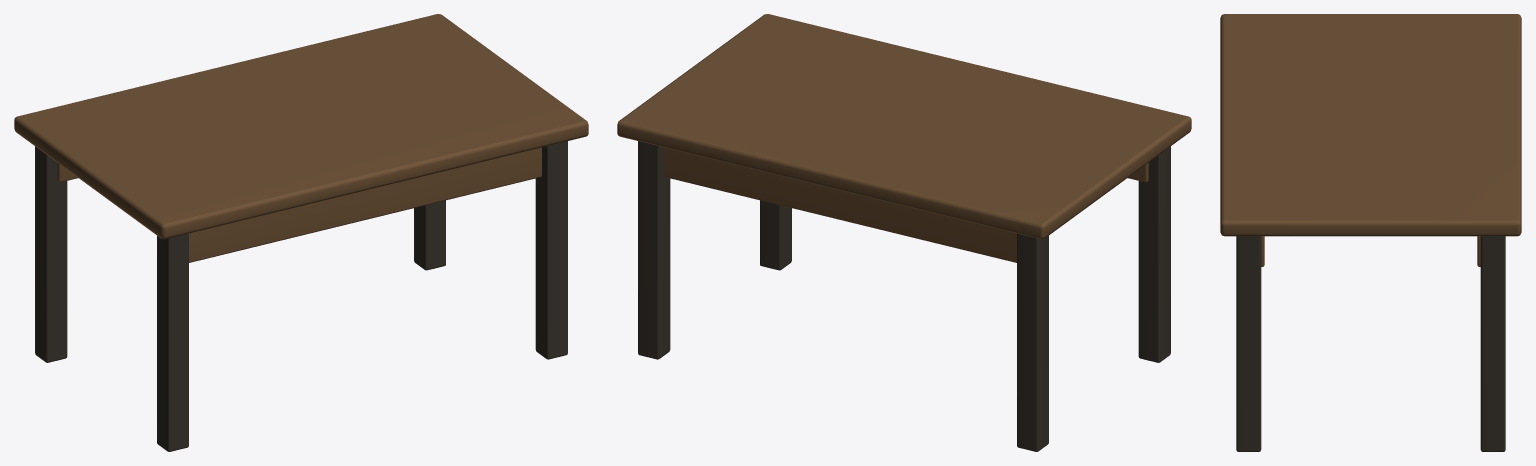
Rendered from table.glb.
3 views of the same model, side by side, from view 1: azimuth 30°, elevation 25°; view 2: azimuth 150°, elevation 25°; view 3: azimuth 270°, elevation 25° (orthographic).
Visible parts, largest first — view 1: top; view 2: top; view 3: top.
Boxes of the visible parts, x1,y1,x2,y2 form: top: (14,14,588,451); top: (617,14,1191,451); top: (1220,14,1521,451).
Size of the model in its own units: 1.4 by 0.74 by 0.85.
